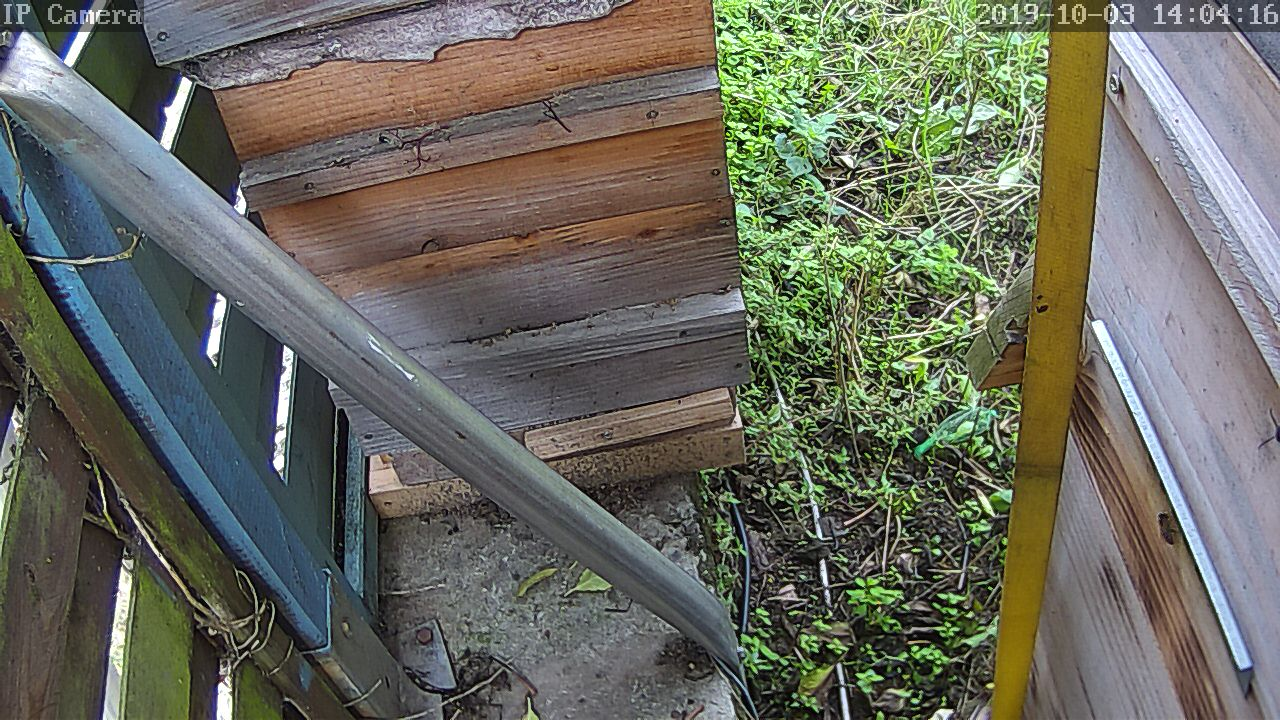bee: (1150, 507, 1184, 549)
